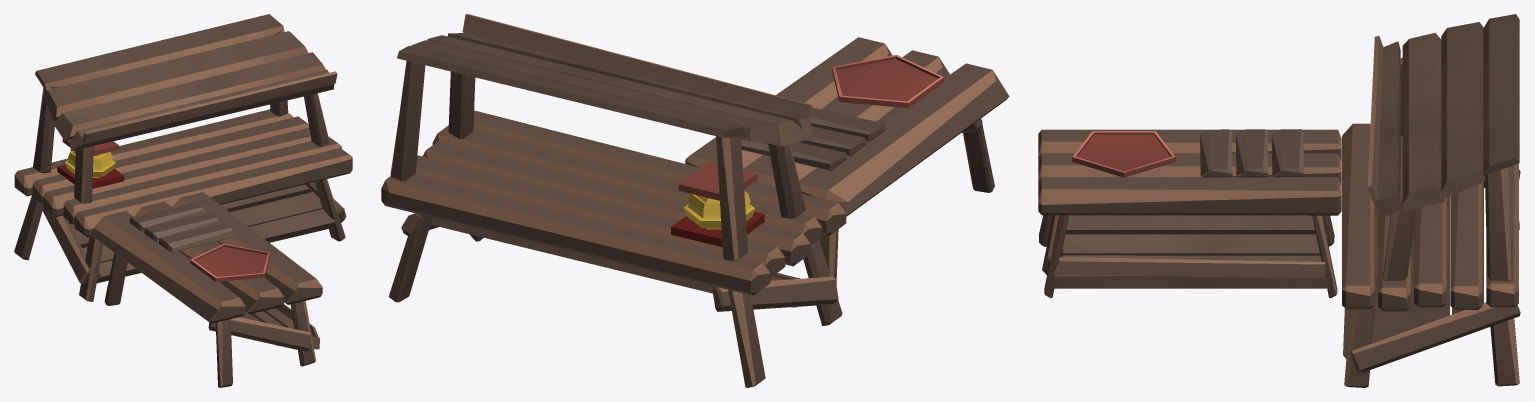
Rendered from shop_1lvl.fbx.
3 views of the same model, side by side, from view 1: azimuth 30°, elevation 25°; view 2: azimuth 150°, elevation 25°; view 3: azimuth 270°, elevation 25° (orthographic). The views are drawn at different scales.
Visible parts, largest first — view 1: shop_1lvl; view 2: shop_1lvl; view 3: shop_1lvl.
Part boxes in pixels (x1,y1,x2,y2): shop_1lvl: (14,14,352,387); shop_1lvl: (381,14,1009,387); shop_1lvl: (1038,14,1520,387).
Bounding box in the file's own units: 3.03 × 1.91 × 3.65.
